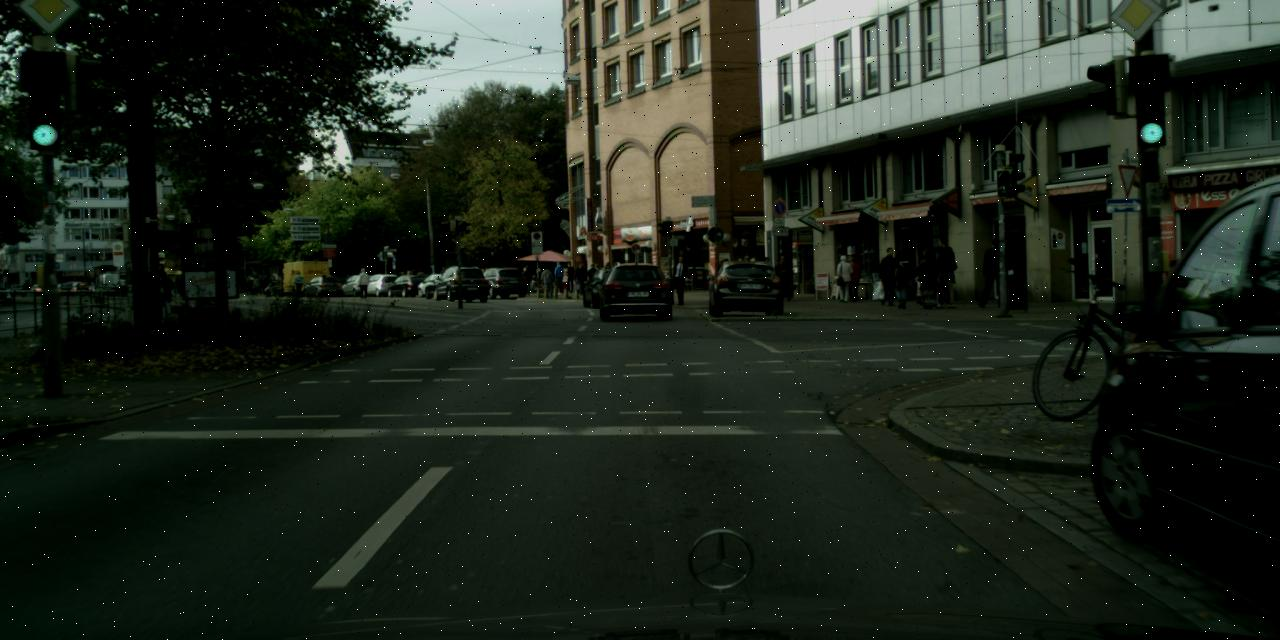ped: (930, 236, 959, 306), (979, 238, 1007, 308), (890, 248, 914, 308), (916, 247, 940, 307), (876, 246, 900, 305), (670, 255, 690, 304), (154, 270, 173, 318), (244, 274, 282, 298), (843, 256, 862, 302), (834, 254, 852, 300), (775, 255, 793, 299), (552, 261, 565, 293), (574, 262, 587, 294), (563, 262, 575, 292), (585, 263, 597, 293), (541, 266, 553, 296), (356, 268, 368, 298), (520, 265, 532, 294), (601, 262, 613, 290), (592, 264, 603, 294), (739, 252, 770, 262), (294, 272, 303, 296), (400, 268, 427, 275), (534, 267, 542, 290)
